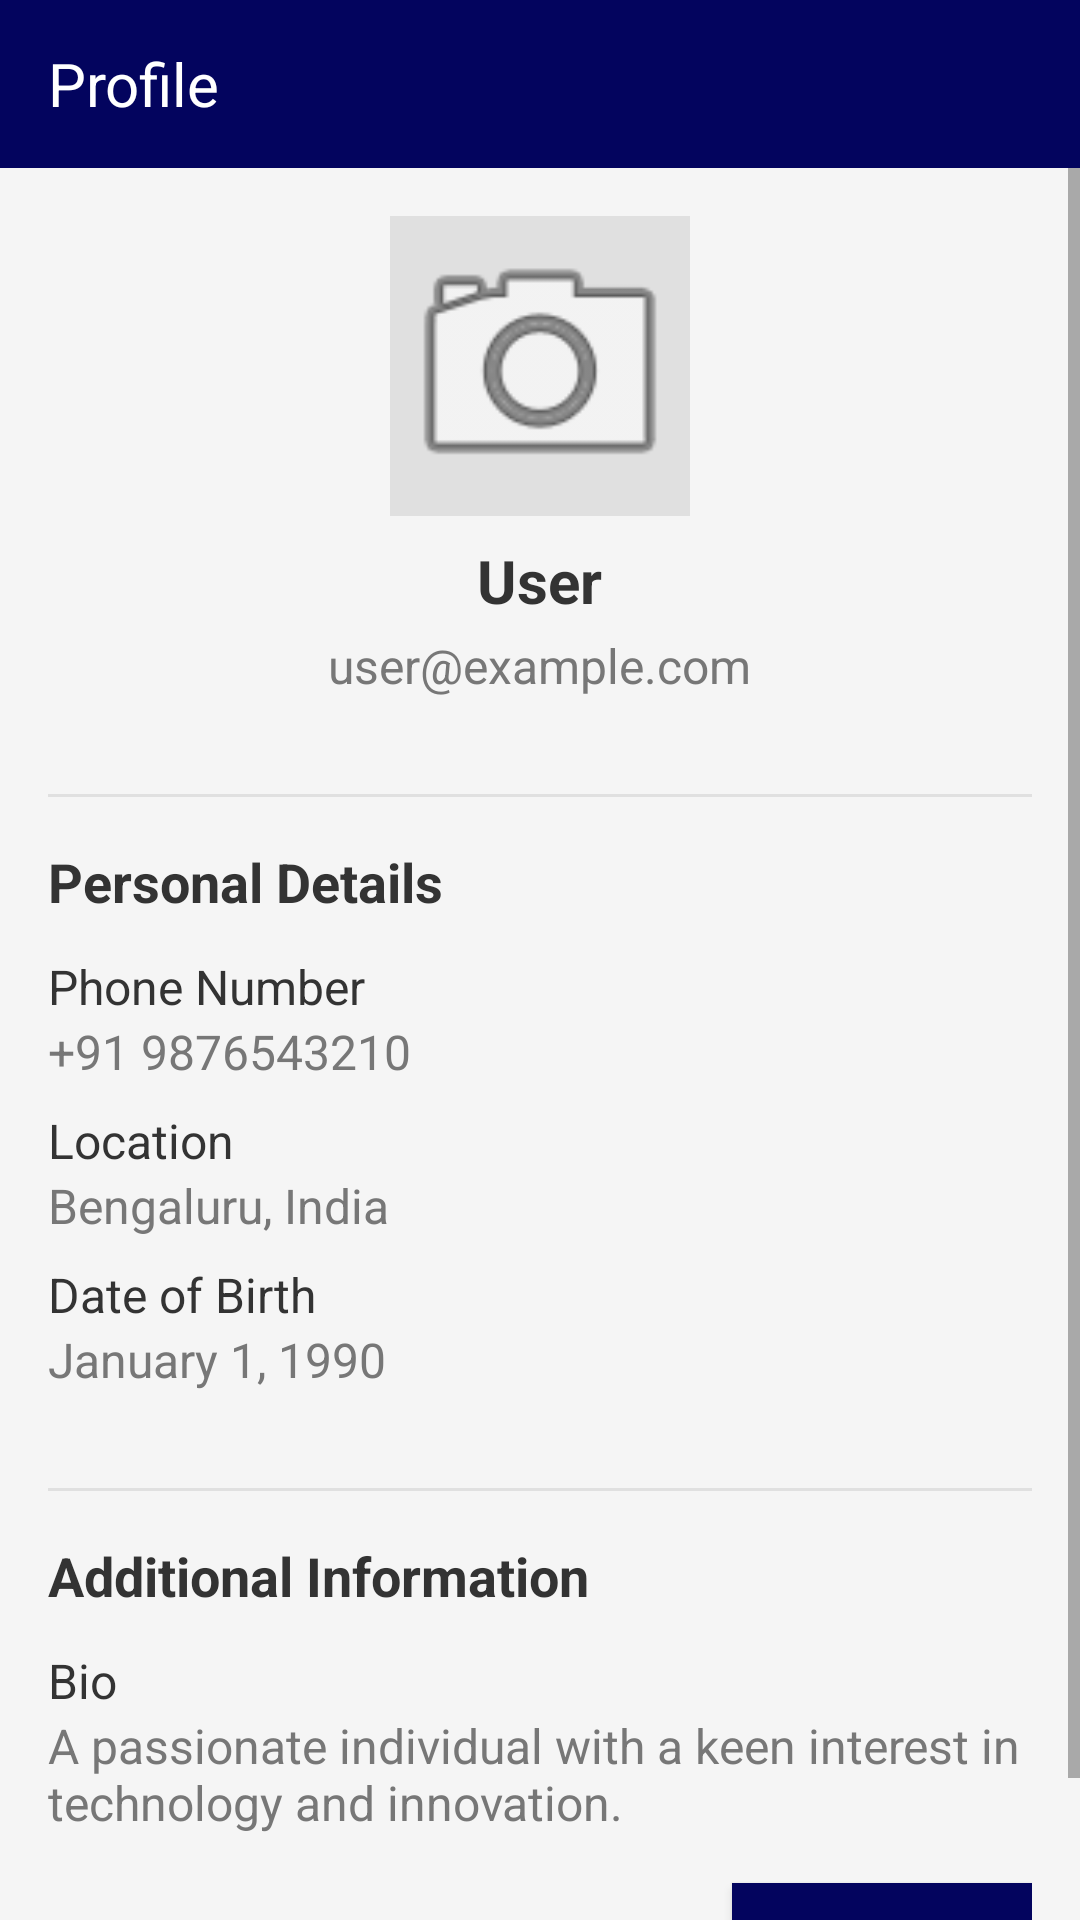

Point at icon controls on the screen. Image size 1080x1920, points as (x,y).
camera: (540,366)
